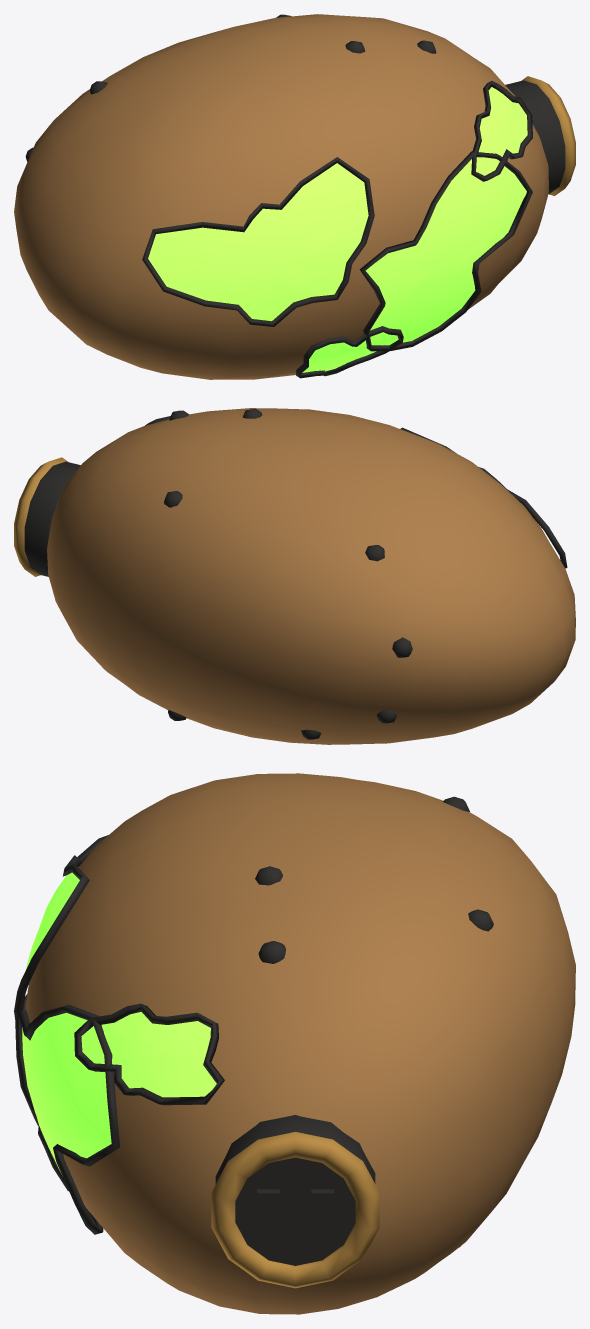
Rendered from potato.glb.
The picture shows the model from 3 angles, top to bottom: view 1: azimuth 30°, elevation 25°; view 2: azimuth 150°, elevation 25°; view 3: azimuth 270°, elevation 25°; orthographic projection. The views are drawn at different scales.
Parts seen in each view (by area): view 1: potato; view 2: potato; view 3: potato.
Part boxes in pixels (<box>): potato: <box>14,14,575,379</box>; potato: <box>14,408,575,744</box>; potato: <box>14,773,575,1314</box>.
Bounding box in the file's own units: 0.1816 × 0.103 × 0.1236.
